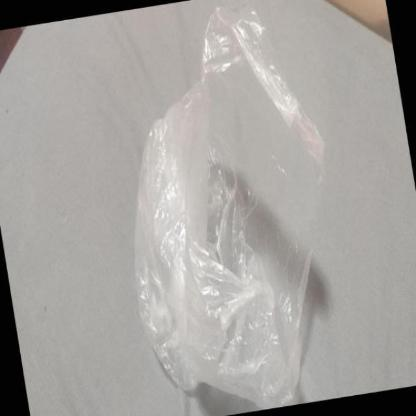Plastic Bag: (134, 2, 326, 416)
